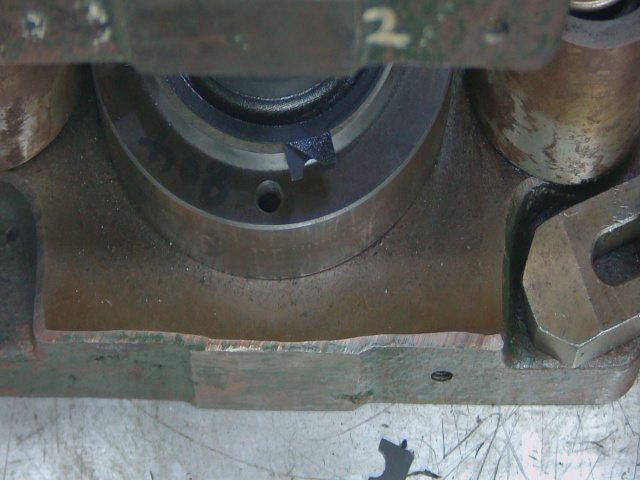OK: (282, 123, 351, 191)
